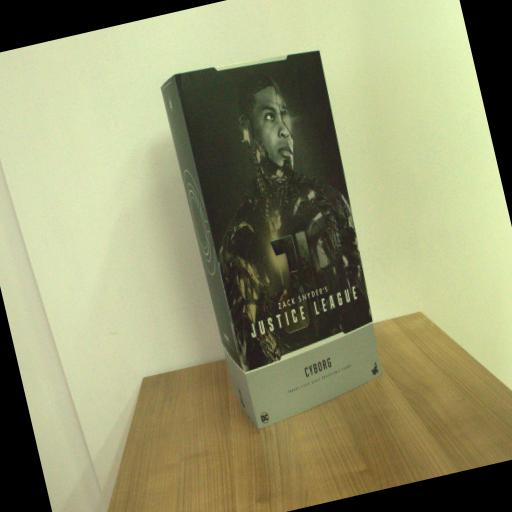Cyborg: (158, 42, 398, 429)
